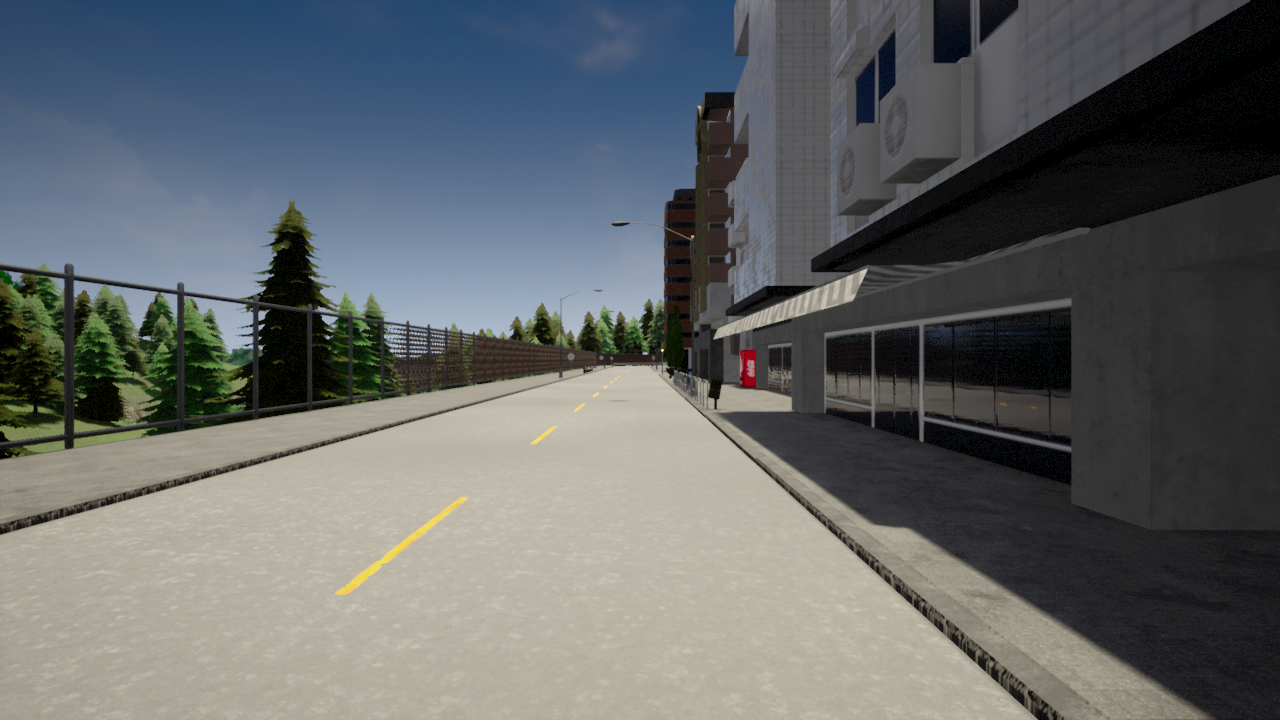yellow: (660, 346, 664, 355)
